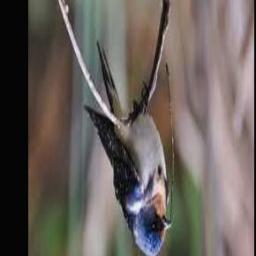Swallow: (84, 42, 172, 256)
